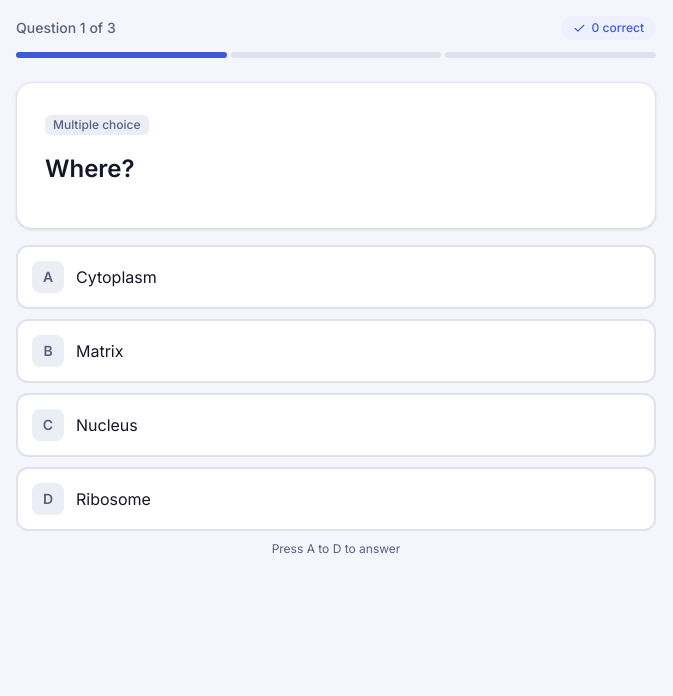
Test: the quiz player › shows A to D badges, the question kind, and a running count of right answers
Expected: the text "Multiple choice" is shown, top-left (45, 115), bottom-right (149, 135)
Expected: the text "0 correct" is shown, top-left (561, 16), bottom-right (656, 40)
Click the button "B Matrix": {"x": 48, "y": 351} top-left (16, 319), bottom-right (656, 383)
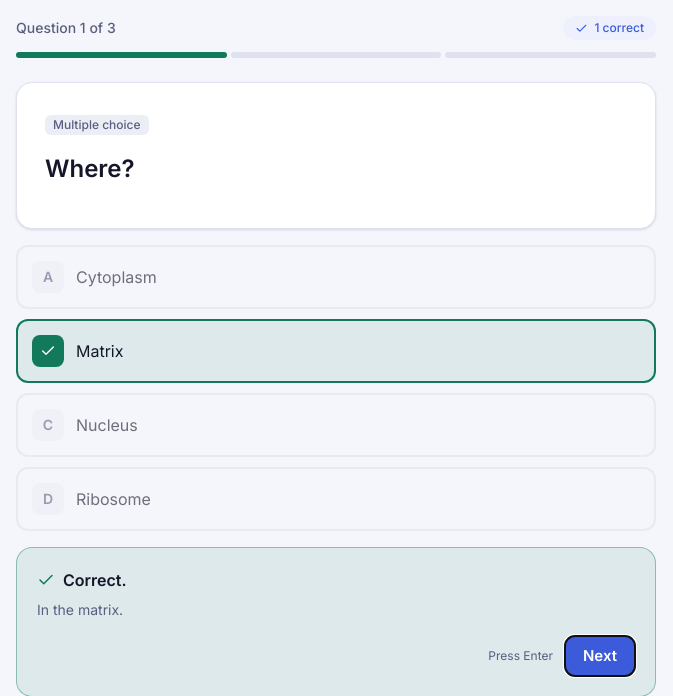
Now the text "1 correct" is shown, box top-left (563, 16), bottom-right (656, 40)
